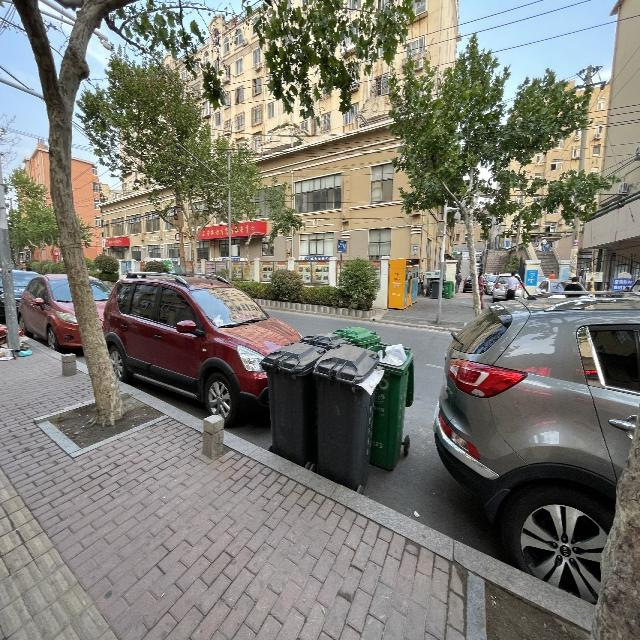garbage_bin: (260, 341, 327, 466), (443, 280, 454, 297), (431, 279, 438, 297)
overflow: (313, 342, 384, 489), (367, 342, 413, 471)
